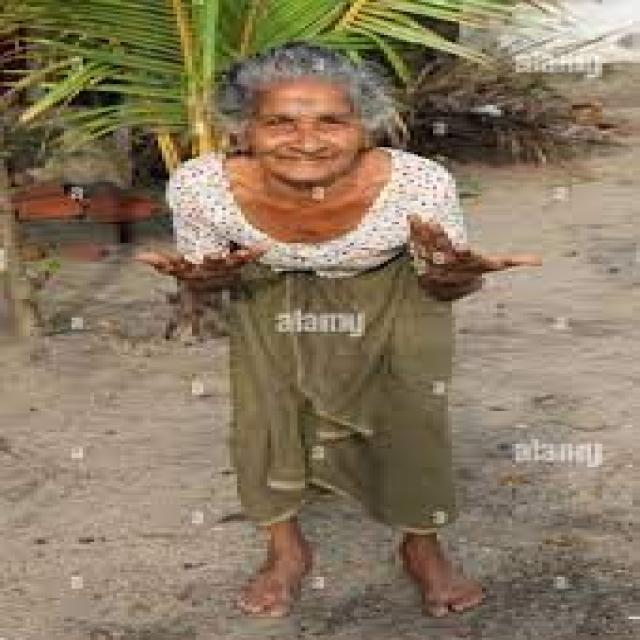idoso em pe: (147, 47, 515, 613)
